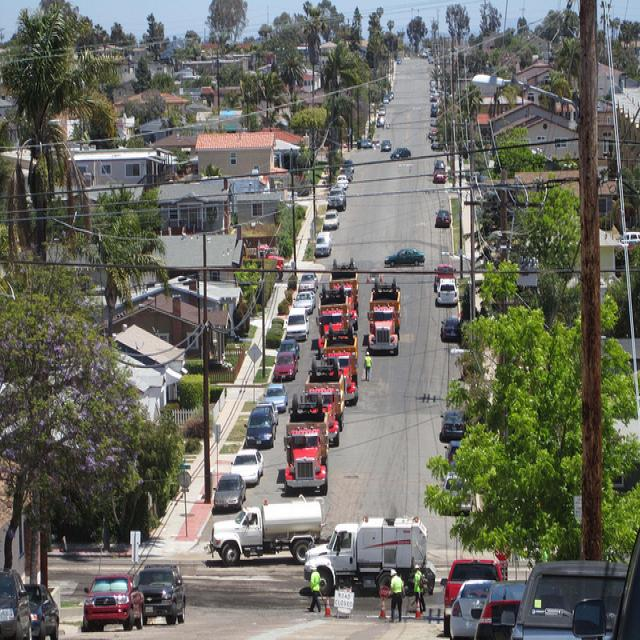Vehicle: (304, 517, 436, 598), (204, 494, 332, 565), (283, 208, 342, 341), (442, 558, 505, 638), (439, 558, 504, 634), (305, 358, 344, 448), (84, 574, 146, 629), (135, 563, 185, 625), (284, 427, 328, 496), (321, 328, 358, 407), (449, 581, 498, 640), (284, 402, 329, 462), (329, 257, 360, 331), (368, 284, 400, 350), (26, 586, 58, 638), (317, 287, 349, 330), (230, 448, 264, 488), (211, 474, 247, 510), (244, 408, 276, 448), (318, 309, 346, 354), (263, 383, 289, 413), (440, 411, 465, 441), (274, 352, 298, 378), (293, 292, 316, 314), (278, 338, 302, 358)
